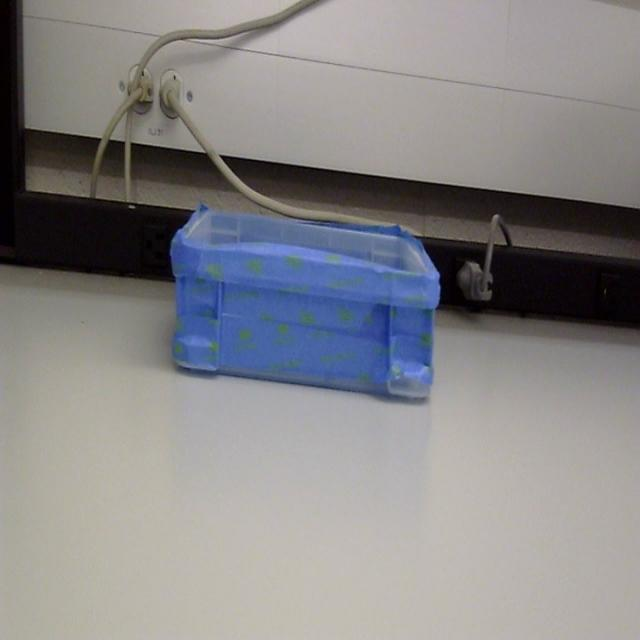bucket: (168, 206, 440, 404)
